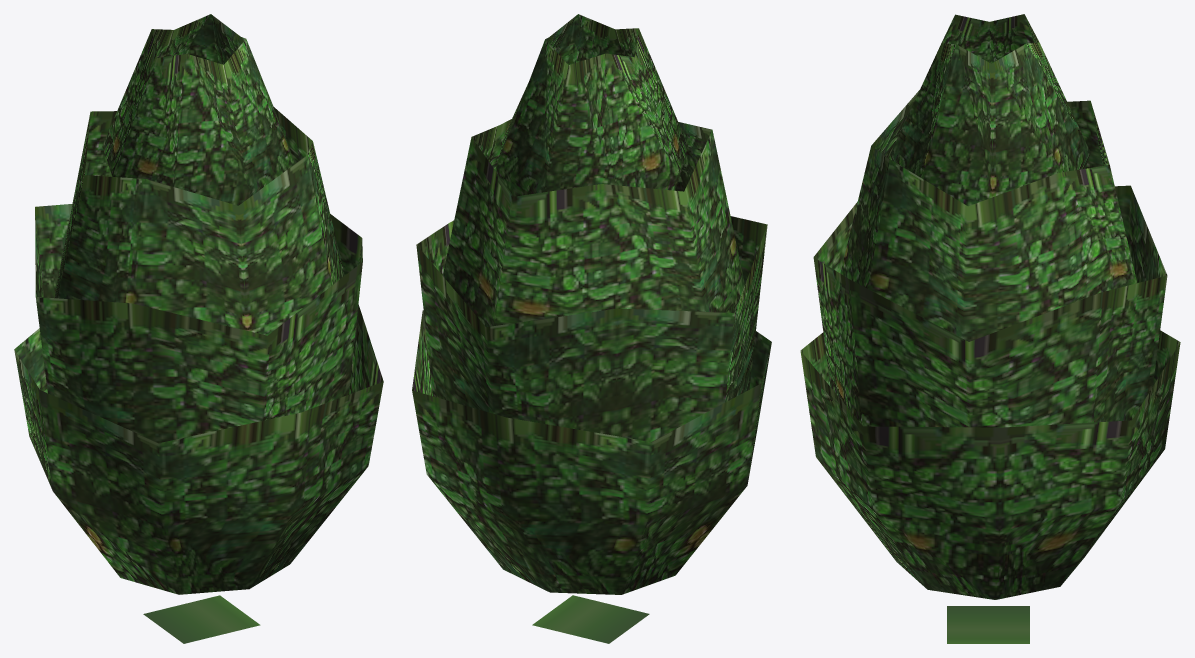
Rendered from n_gardentree02.glb.
The picture shows the model from 3 angles, left to right: view 1: azimuth 30°, elevation 25°; view 2: azimuth 150°, elevation 25°; view 3: azimuth 270°, elevation 25°; orthographic projection.
Visible parts, largest first — view 1: n_gardentree02; view 2: n_gardentree02; view 3: n_gardentree02.
Boxes of the visible parts, x1=… form: n_gardentree02: x1=14, y1=14, x2=383, y2=643; n_gardentree02: x1=412, y1=14, x2=771, y2=643; n_gardentree02: x1=800, y1=14, x2=1180, y2=643.
Size of the model in its own units: 1.18 by 2.02 by 1.17.
1 material, 1 textured.
